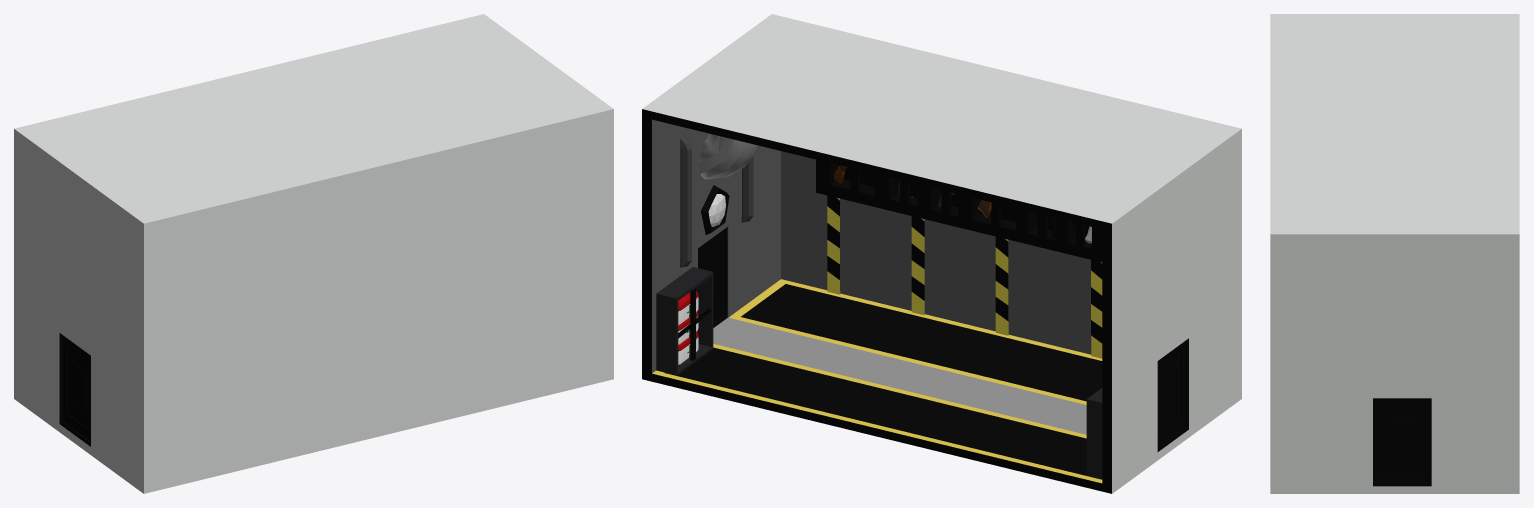
The model's file is ArmRoom.fbx.
The picture shows the model from 3 angles, left to right: view 1: azimuth 30°, elevation 25°; view 2: azimuth 150°, elevation 25°; view 3: azimuth 270°, elevation 25°; orthographic projection. The views are drawn at different scales.
Visible parts, largest first — view 1: BaseRoom.004, DoorRight; view 2: BaseRoom.004, Cube, MedicStand, DoorRight, PipeLeft, DoorLeft, Pipe.003, Hazard.002, Hazard.003, Hazard.001, Hazard.004, Pipe.001; view 3: BaseRoom.004, DoorLeft.
Part boxes in pixels (x1,y1,x2,y2): BaseRoom.004: (14, 14, 613, 493); DoorRight: (59, 333, 90, 446); BaseRoom.004: (642, 14, 1241, 493); Cube: (816, 159, 1102, 262); MedicStand: (656, 267, 1102, 479); DoorRight: (1157, 338, 1188, 451); PipeLeft: (699, 134, 758, 179); DoorLeft: (698, 227, 727, 327); Pipe.003: (680, 134, 691, 267); Hazard.002: (995, 208, 1008, 335); Hazard.003: (911, 186, 924, 315); Hazard.001: (827, 195, 840, 294); Hazard.004: (1091, 260, 1102, 358); Pipe.001: (741, 156, 753, 222); BaseRoom.004: (1270, 14, 1519, 493); DoorLeft: (1373, 398, 1431, 486).
Bounding box in the file's own units: 1806 × 992 × 864.
